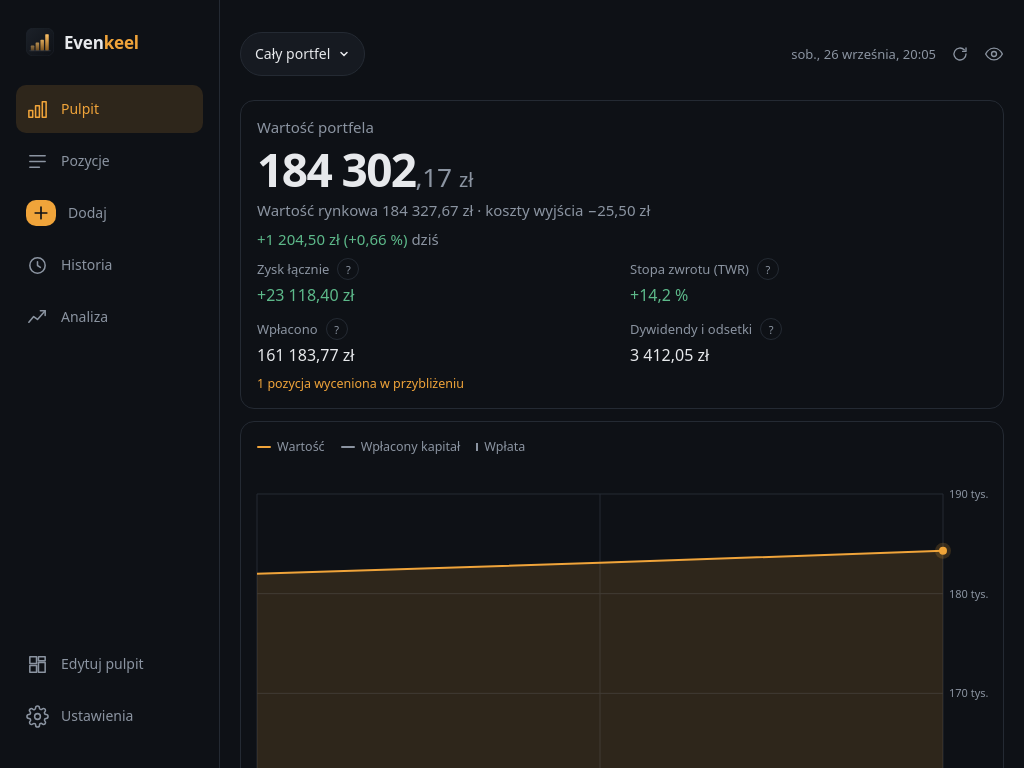
Scenario: hidden amounts › hide every amount behind the eye on Pulpit and keep the percentages
Click the button named "Ukryj kwoty". click: [994, 54]
box: [972,32,1016,76]
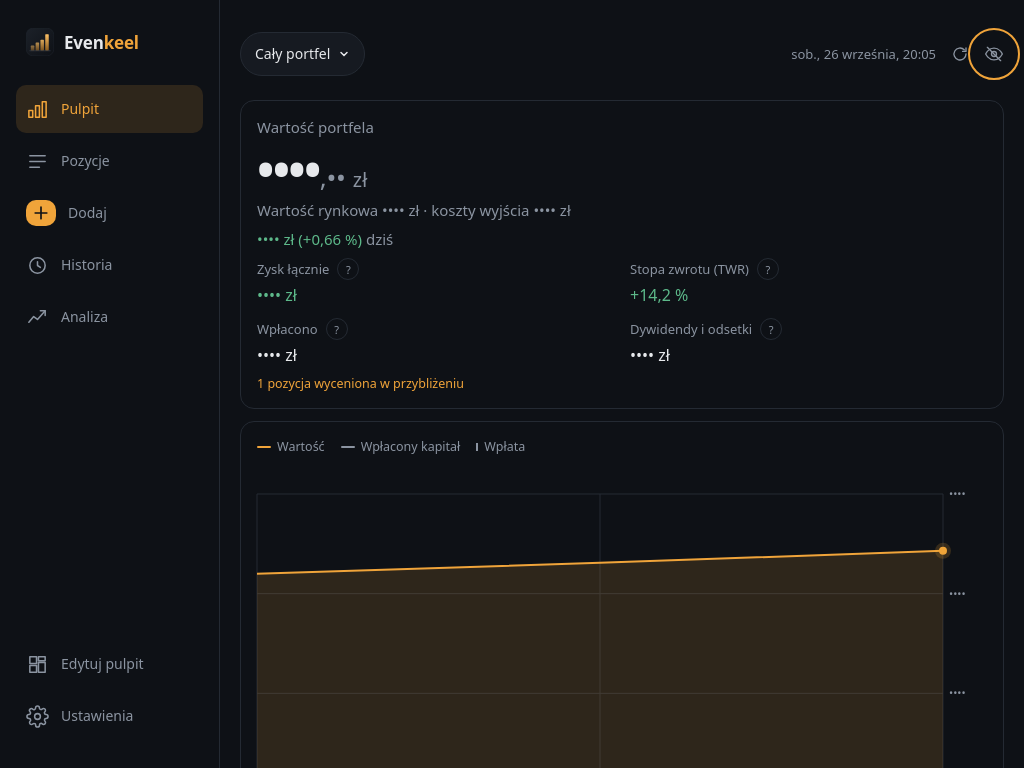
Expected: the button named "Pokaż kwoty" is shown, [972,32,1016,76]
Expected: the text "••••,•• zł" is shown, [257,138,367,200]
Expected: the text "184 302,17zł" is gone
